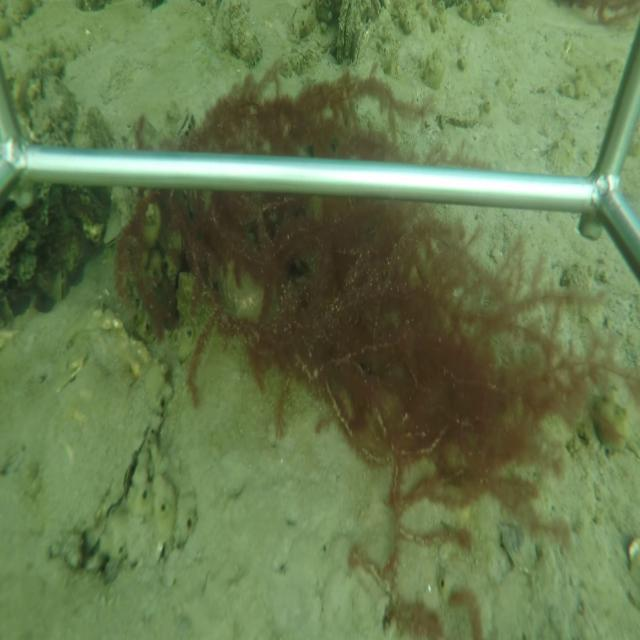Oyster-Closed: (30, 301, 173, 570), (334, 3, 360, 61)
